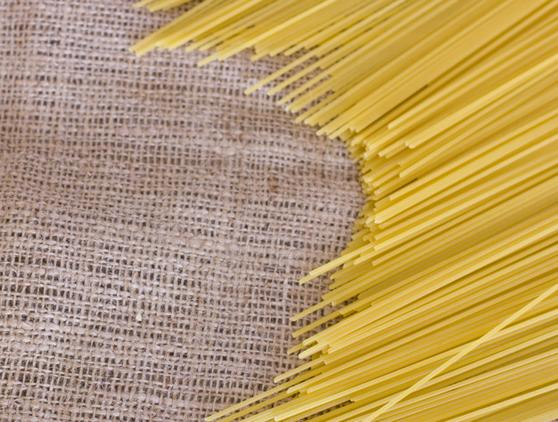spaghetti: (189, 5, 557, 422)
